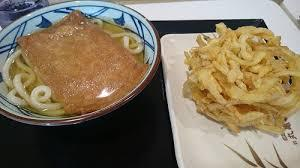kakiage: (190, 25, 295, 133)
kitune: (1, 4, 157, 123)
